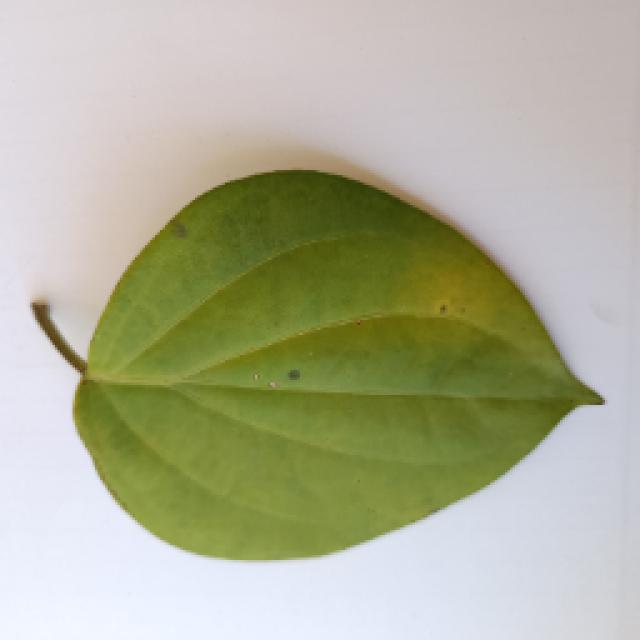slow-decline: (45, 162, 603, 562)
